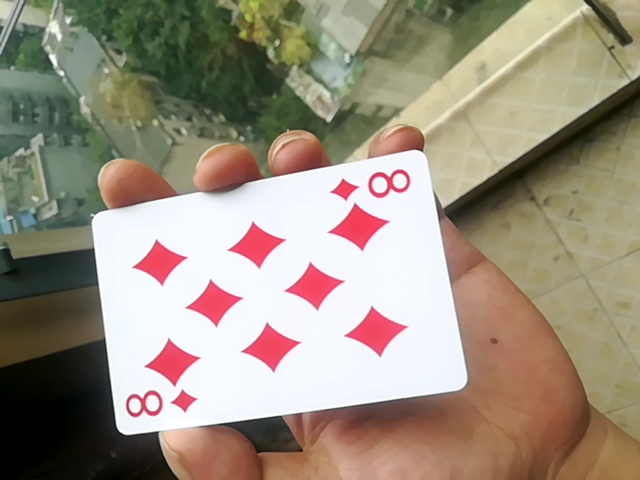fk 8: (90, 145, 463, 438)
